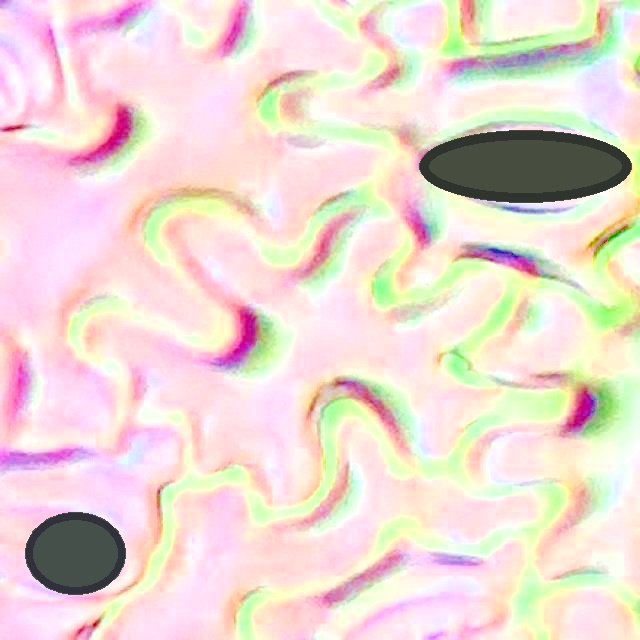close: (419, 129, 630, 203), (24, 512, 125, 594)
